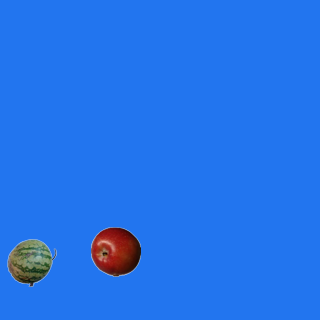Apple Braeburn: (90, 226, 140, 276)
Watermelon: (6, 237, 56, 287)
